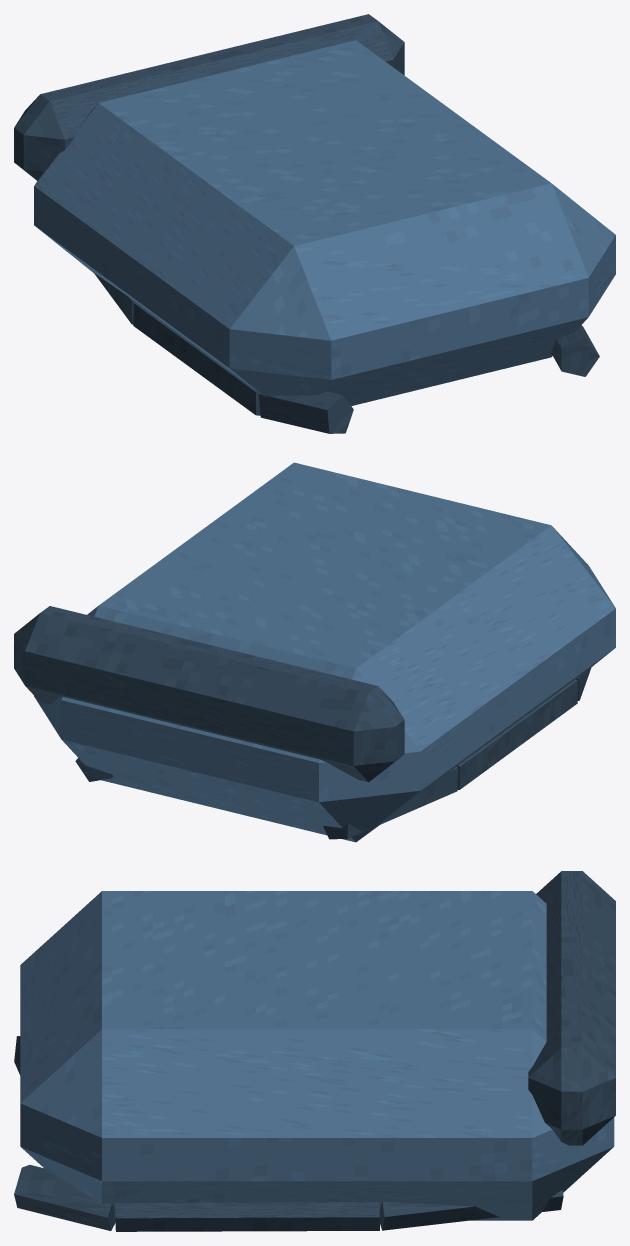
File: dry_bag.glb
3 views of the same model, one above another, from view 1: azimuth 30°, elevation 25°; view 2: azimuth 150°, elevation 25°; view 3: azimuth 270°, elevation 25° (orthographic). The views are drawn at different scales.
Visible parts, largest first — view 1: block_rounded dry or mesh bag, block_rolled waterproof closure, block_backpack strap 2 (×2), block_backpack strap 1, block_backpack strap 0; view 2: block_rounded dry or mesh bag, block_rolled waterproof closure, block_backpack strap 1, block_backpack strap 0; view 3: block_rounded dry or mesh bag, block_rolled waterproof closure, block_backpack strap 1, block_backpack strap 2, block_backpack strap 0.
Boxes of the visible parts, x1,y1,x2,y2 form: block_rounded dry or mesh bag: (34,40,615,405); block_rolled waterproof closure: (14,14,404,180); block_backpack strap 2 (×2): (258,325,599,433); block_backpack strap 1: (133,302,260,415); block_backpack strap 0: (94,273,134,324); block_rounded dry or mesh bag: (34,462,615,842); block_rolled waterproof closure: (14,606,404,782); block_backpack strap 1: (457,679,577,789); block_backpack strap 0: (323,767,457,839); block_rounded dry or mesh bag: (20,891,614,1220); block_rolled waterproof closure: (528,871,615,1145); block_backpack strap 1: (115,1202,379,1231); block_backpack strap 2: (14,1165,115,1230); block_backpack strap 0: (380,1190,563,1230).
Bounding box in the file's own units: 0.1965 × 0.085 × 0.241.
1 material, 1 textured.
